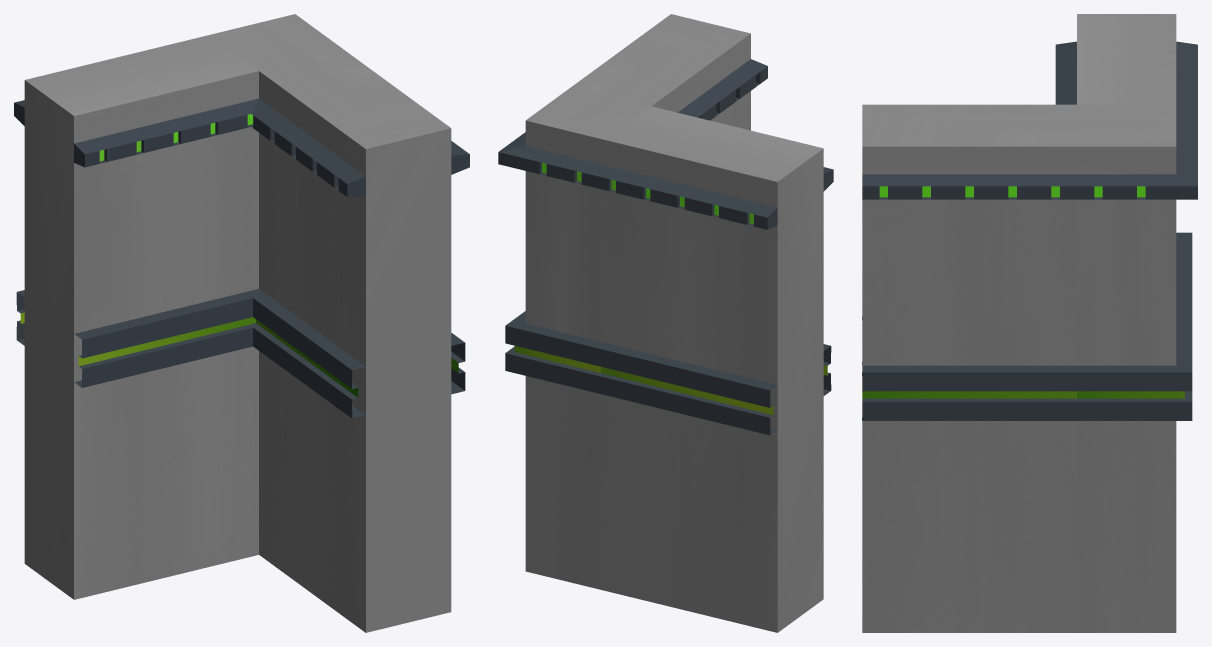
File: wall corner.fbx
3 renders of one model, left to right at view 1: azimuth 30°, elevation 25°; view 2: azimuth 150°, elevation 25°; view 3: azimuth 270°, elevation 25°, orthographic. The views are drawn at different scales.
Visible parts, largest first — view 1: polySurface37; view 2: polySurface37; view 3: polySurface37.
Part boxes in pixels (x1,y1,x2,y2): polySurface37: (14,14,469,632); polySurface37: (498,14,833,632); polySurface37: (862,14,1197,632).
Bounding box in the file's own units: 1.73 × 2.77 × 1.73.
2 materials, 2 textured.
